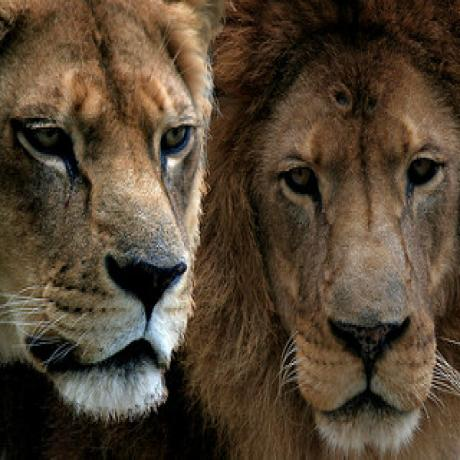Lion: (188, 0, 460, 460), (0, 2, 213, 418)
